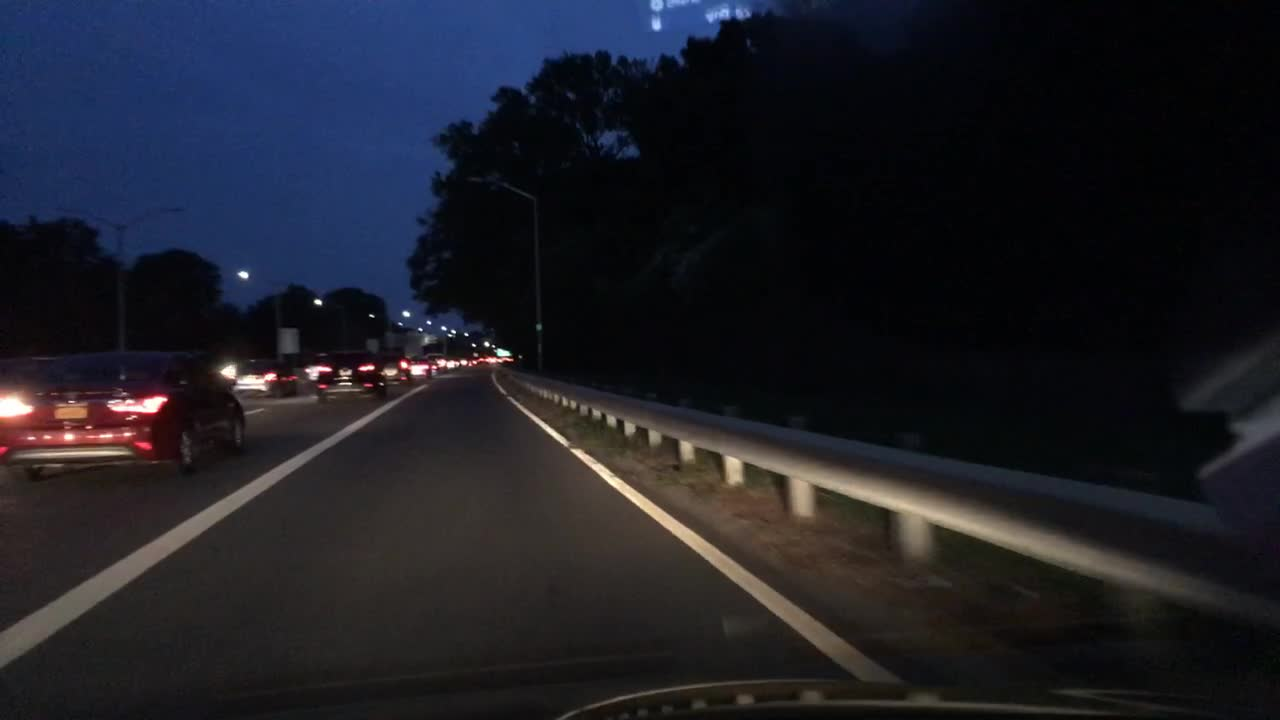car: (0, 344, 246, 485), (303, 344, 391, 396), (231, 358, 297, 400), (406, 358, 440, 378), (381, 361, 411, 381), (428, 351, 448, 373), (445, 358, 459, 370)
traffic sign: (279, 326, 299, 353)
